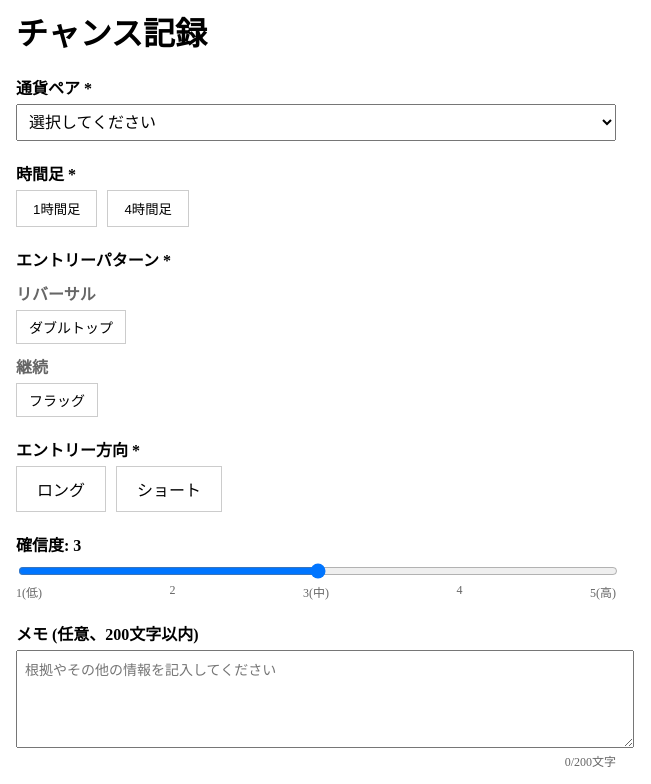
ChanceRecorder › 確信度スライダーが機能する
Set the slider to "4" at (464,571), box [18,563,618,579]
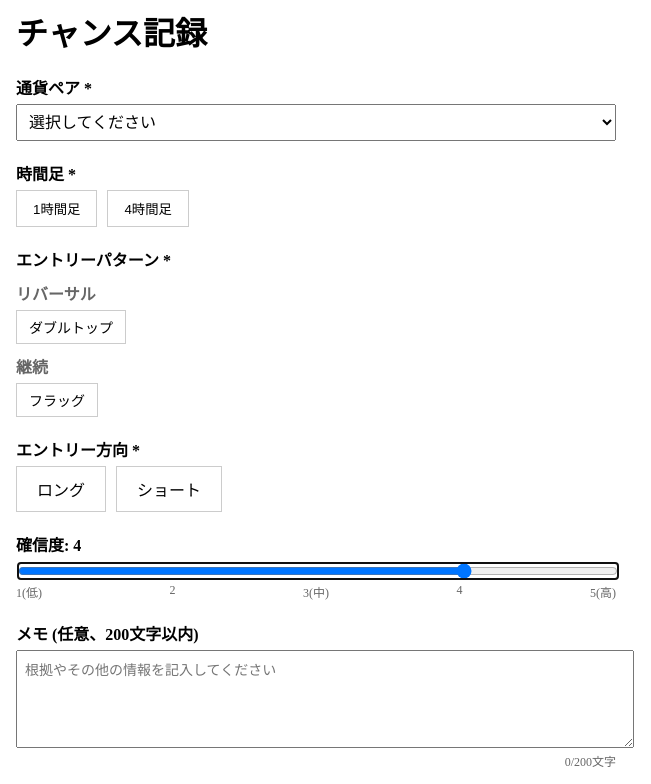
Check: the text "確信度: 4" is shown, box [16,537,81,554]
